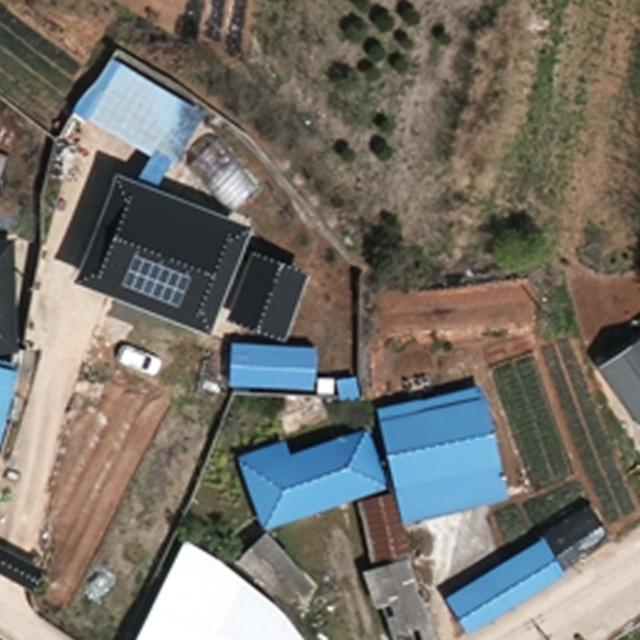panel: (117, 253, 193, 311)
